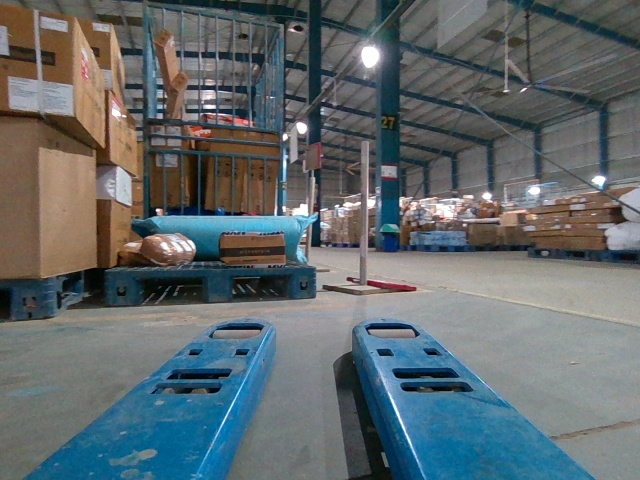block: (106, 270, 138, 304), (289, 267, 317, 299), (208, 270, 231, 299)
front: (106, 267, 317, 304)
hole pallet: (141, 277, 205, 301), (231, 274, 288, 298)
